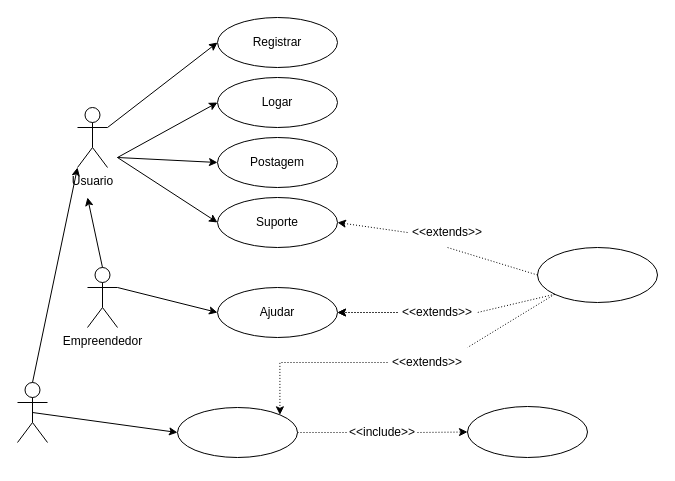
The diagram is 675 pixels wide and 481 high, and some of its shapes have lost their labels. Each missing label, with the box of its shape:
Adm: (16, 382, 48, 442)
CRUD: (536, 246, 658, 302)
Gerenciar: (176, 406, 298, 458)
Pesquisar: (466, 406, 588, 458)
